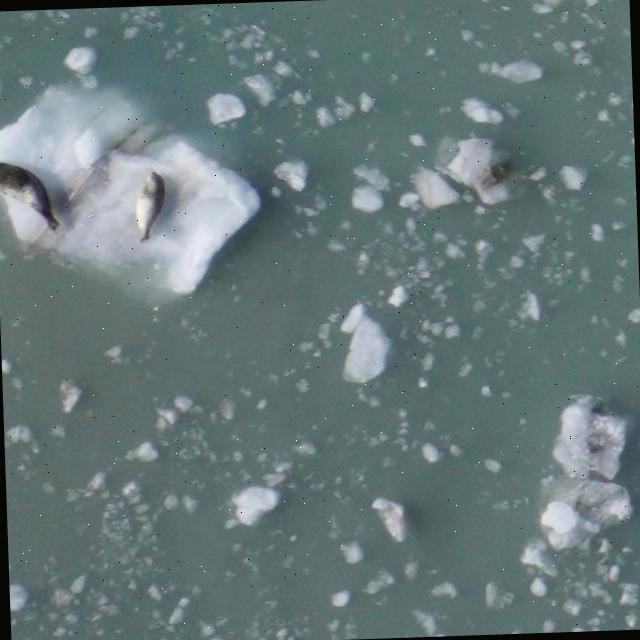seal: (133, 171, 164, 241)
